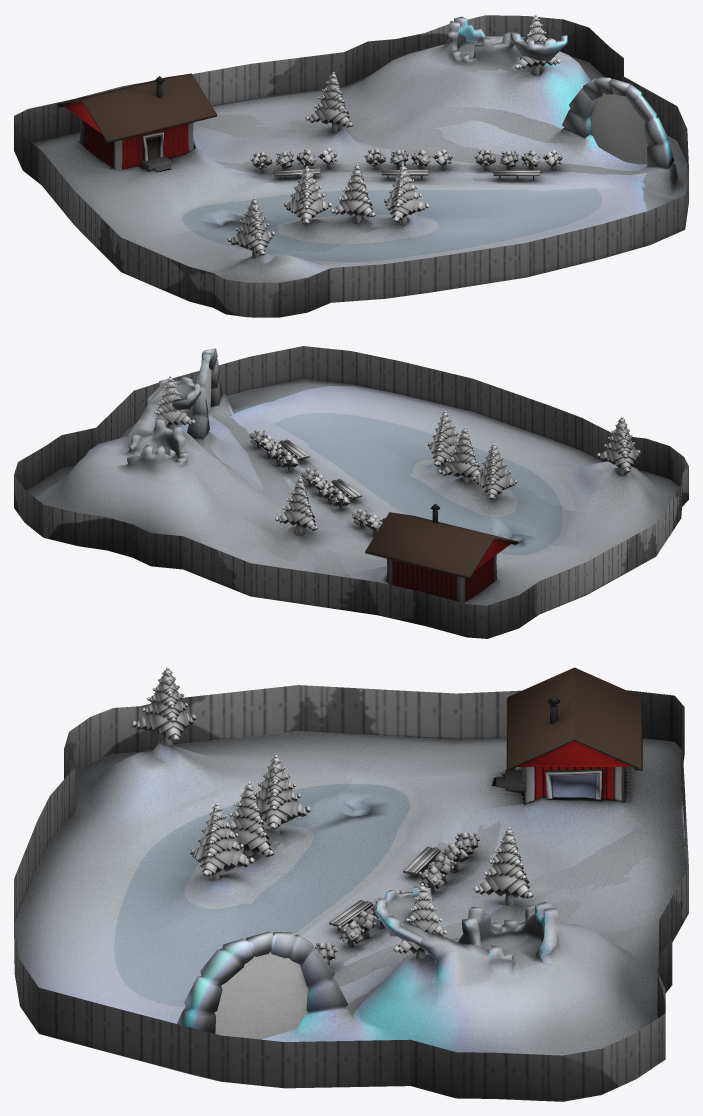
Rendered from world1.fbx.
3 views of the same model, one above another, from view 1: azimuth 30°, elevation 25°; view 2: azimuth 150°, elevation 25°; view 3: azimuth 270°, elevation 25° (orthographic). The views are drawn at different scales.
Parts seen in each view (by area): view 1: Ground, Fence, House.001, PortalPlane, Tree, Tree.001, Tree.003, Tree.005, Tree.002, Bushes, Bushes.002, Bushes.001 (+1 smaller); view 2: Ground, Fence, House.001, Tree, Tree.001, Tree.005, Tree.002, Tree.003, Tree.004, Bushes, Bushes.002; view 3: Ground, Fence, House.001, PortalPlane, Tree, Tree.003, Tree.001, Tree.005, Tree.002, Bushes.001, Tree.004, Bushes.002.
Part boxes in pixels (left/top/right/bottom): Ground: left=32, top=16, right=687, bottom=282; Fence: left=14, top=15, right=688, bottom=317; House.001: left=56, top=73, right=217, bottom=171; PortalPlane: left=590, top=93, right=647, bottom=164; Tree: left=227, top=198, right=275, bottom=258; Tree.001: left=283, top=166, right=331, bottom=224; Tree.003: left=384, top=164, right=429, bottom=225; Tree.005: left=305, top=71, right=353, bottom=133; Tree.002: left=330, top=163, right=376, bottom=223; Bushes: left=474, top=149, right=562, bottom=171; Bushes.002: left=364, top=148, right=452, bottom=170; Bushes.001: left=250, top=147, right=337, bottom=173; Ground: left=26, top=348, right=679, bottom=605; Fence: left=14, top=346, right=688, bottom=638; House.001: left=365, top=503, right=518, bottom=603; Tree: left=597, top=417, right=640, bottom=475; Tree.001: left=472, top=443, right=517, bottom=499; Tree.005: left=274, top=476, right=317, bottom=535; Tree.002: left=438, top=427, right=480, bottom=483; Tree.003: left=427, top=410, right=459, bottom=466; Tree.004: left=154, top=375, right=195, bottom=429; Bushes: left=248, top=429, right=299, bottom=472; Bushes.002: left=300, top=468, right=350, bottom=510; Ground: left=14, top=731, right=686, bottom=1080; Fence: left=14, top=685, right=688, bottom=1101; House.001: left=496, top=667, right=642, bottom=803; PortalPlane: left=214, top=951, right=308, bottom=1039; Tree: left=131, top=667, right=196, bottom=745; Tree.003: left=190, top=803, right=254, bottom=879; Tree.001: left=254, top=755, right=310, bottom=833; Tree.005: left=473, top=826, right=533, bottom=905; Tree.002: left=229, top=781, right=274, bottom=857; Bushes.001: left=418, top=832, right=479, bottom=893; Tree.004: left=393, top=883, right=446, bottom=958; Bushes.002: left=338, top=889, right=408, bottom=947.
Bounding box in the file's own units: 32.26 × 6.34 × 25.
